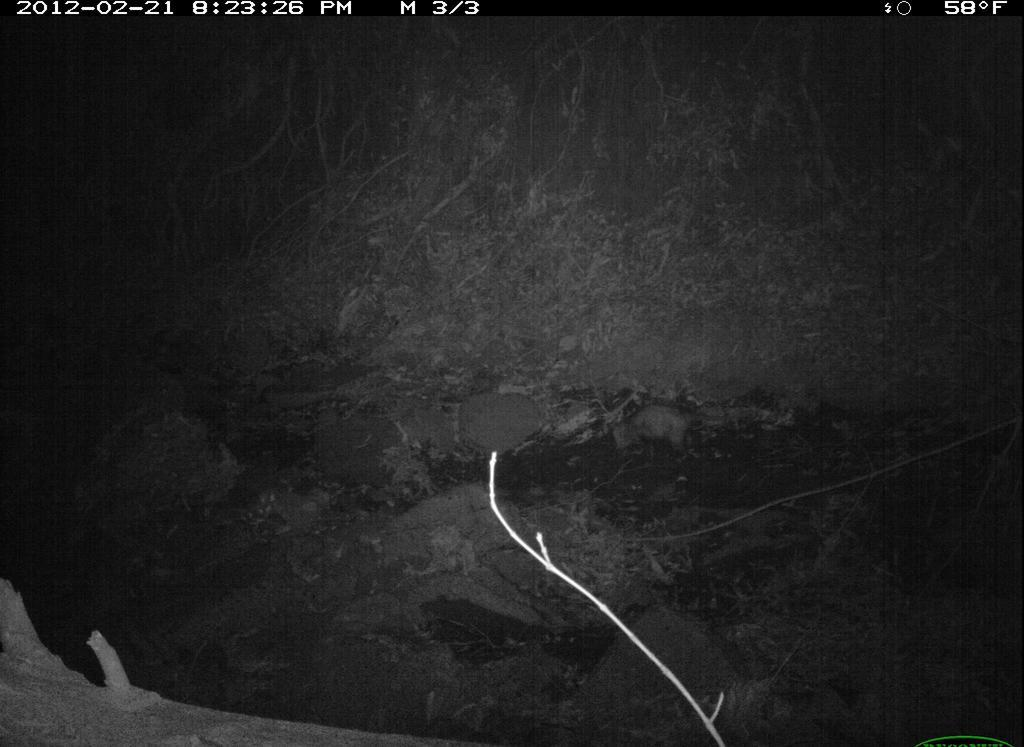opossum: (605, 397, 738, 460)
